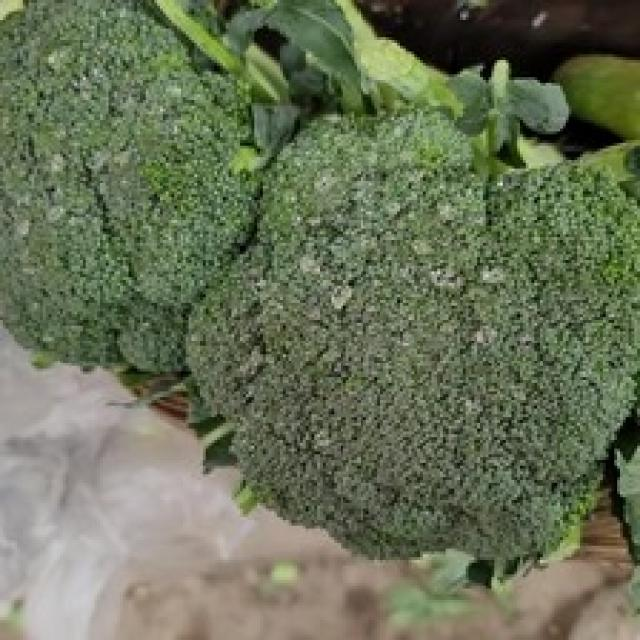Broccoli: (191, 112, 640, 563), (191, 112, 640, 561), (0, 1, 252, 371)
